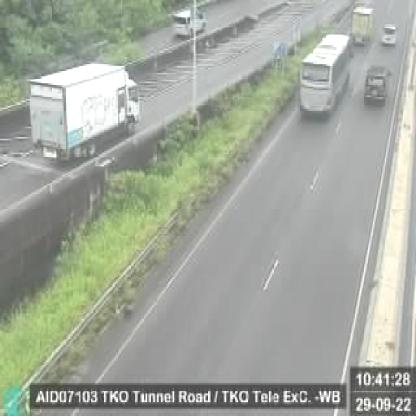Bus: (294, 31, 355, 123)
Car: (363, 56, 391, 112), (172, 5, 206, 35), (351, 5, 374, 45), (378, 21, 398, 47)
Truck: (17, 52, 144, 158)
